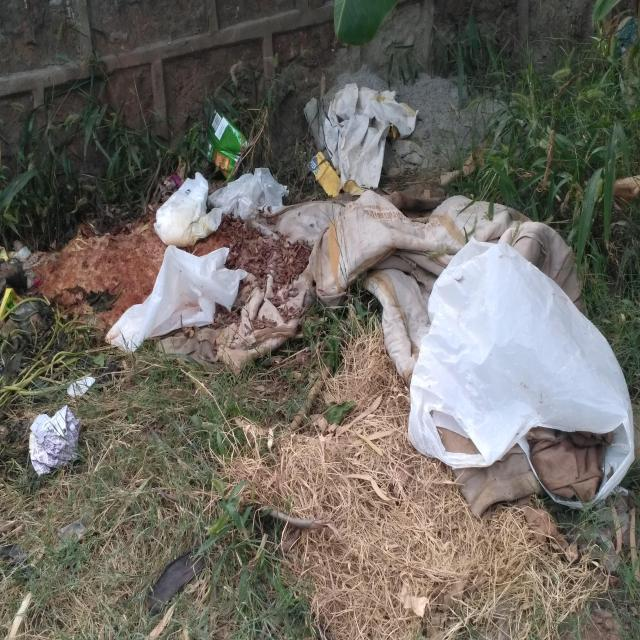litter: (406, 239, 634, 503), (199, 107, 251, 179)
